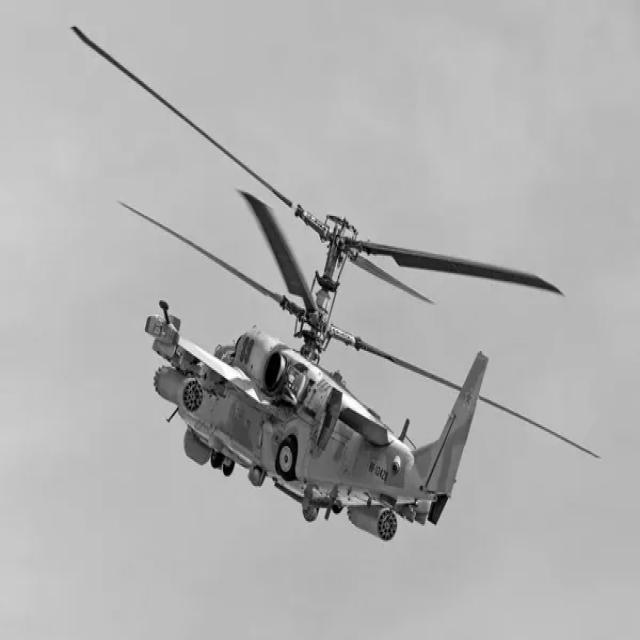Helicopter: (73, 25, 563, 541)
